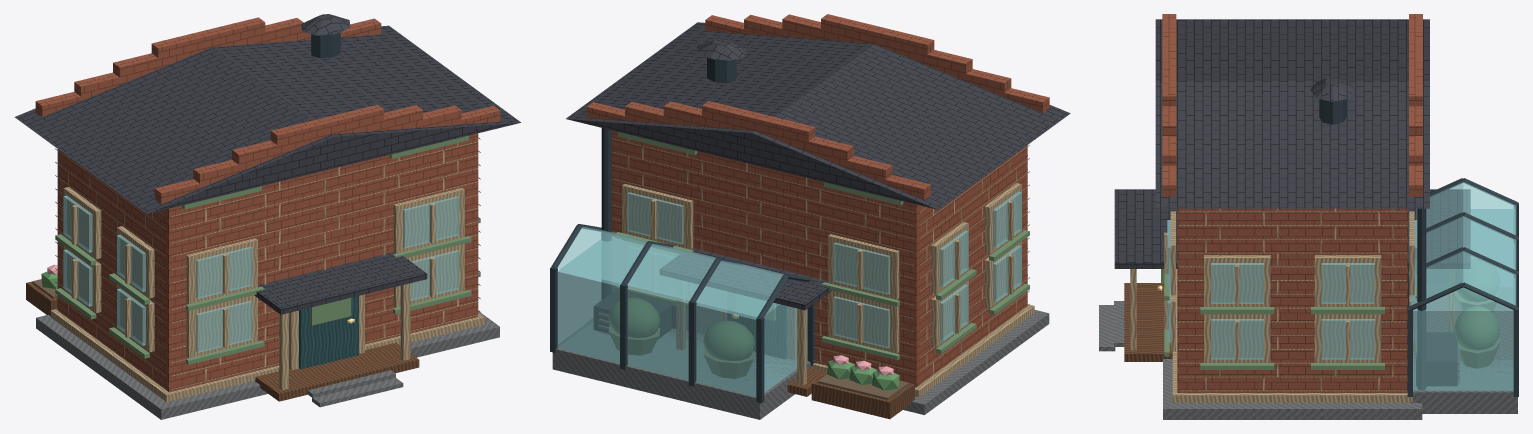
The model's file is house_townhouse_lv4_greenhouse.glb.
The picture shows the model from 3 angles, left to right: view 1: azimuth 30°, elevation 25°; view 2: azimuth 150°, elevation 25°; view 3: azimuth 270°, elevation 25°; orthographic projection. The views are drawn at different scales.
Parts seen in each view (by area): view 1: gable_roof, walls, foundation, front_porch_canopy, front_deck, floor_trim, front_window_frame.003, front_window_frame.002, front_window_frame, front_door, front_window_frame.001, stepped_gable.002 (+32 smaller); view 2: gable_roof, walls, greenhouse_glazing, greenhouse_roof, greenhouse_plinth, back_porch_canopy, back_window_frame.002, back_window_frame.003, back_window_frame, foundation, stepped_gable.002, stepped_gable.006 (+39 smaller); view 3: gable_roof, walls, greenhouse_glazing, greenhouse_roof, foundation, greenhouse_plinth, front_porch_canopy, right_window_frame.003, right_window_frame.002, back_porch_canopy, right_window_frame.001, right_window_frame (+35 smaller).
Part boxes in pixels (left/top/right/bottom): gable_roof: left=14, top=25, right=520, bottom=213; walls: left=57, top=133, right=478, bottom=392; foundation: left=36, top=311, right=499, bottom=419; front_porch_canopy: left=254, top=252, right=427, bottom=314; front_deck: left=255, top=342, right=419, bottom=401; floor_trim: left=50, top=308, right=485, bottom=401; front_window_frame.003: left=393, top=188, right=464, bottom=253; front_window_frame.002: left=186, top=238, right=257, bottom=304; front_window_frame: left=186, top=295, right=257, bottom=357; front_door: left=299, top=296, right=358, bottom=369; front_window_frame.001: left=393, top=243, right=464, bottom=307; stepped_gable.002: left=232, top=105, right=422, bottom=164; gable_roof: left=566, top=22, right=1070, bottom=209; walls: left=611, top=130, right=1027, bottom=387; greenhouse_glazing: left=557, top=236, right=807, bottom=396; greenhouse_roof: left=557, top=227, right=783, bottom=316; greenhouse_plinth: left=552, top=322, right=810, bottom=419; back_porch_canopy: left=660, top=248, right=831, bottom=310; back_window_frame.002: left=828, top=234, right=899, bottom=299; back_window_frame.003: left=622, top=184, right=693, bottom=249; back_window_frame: left=828, top=291, right=899, bottom=353; foundation: left=903, top=310, right=1049, bottom=414; stepped_gable.002: left=782, top=14, right=972, bottom=74; stepped_gable.006: left=663, top=101, right=853, bottom=161; gable_roof: left=1155, top=19, right=1429, bottom=208; walls: left=1177, top=208, right=1407, bottom=392; greenhouse_glazing: left=1412, top=209, right=1514, bottom=390; greenhouse_roof: left=1410, top=182, right=1516, bottom=305; foundation: left=1163, top=359, right=1422, bottom=419; greenhouse_plinth: left=1409, top=294, right=1517, bottom=413; front_porch_canopy: left=1114, top=189, right=1177, bottom=268; right_window_frame.003: left=1314, top=255, right=1381, bottom=306; right_window_frame.002: left=1204, top=255, right=1270, bottom=306; back_porch_canopy: left=1408, top=189, right=1470, bottom=268; right_window_frame.001: left=1314, top=314, right=1381, bottom=362; right_window_frame: left=1204, top=314, right=1270, bottom=362.
Bounding box in the file's own units: 6.6 × 4.75 × 6.19.
Materials: 13 (7 with a texture image).
